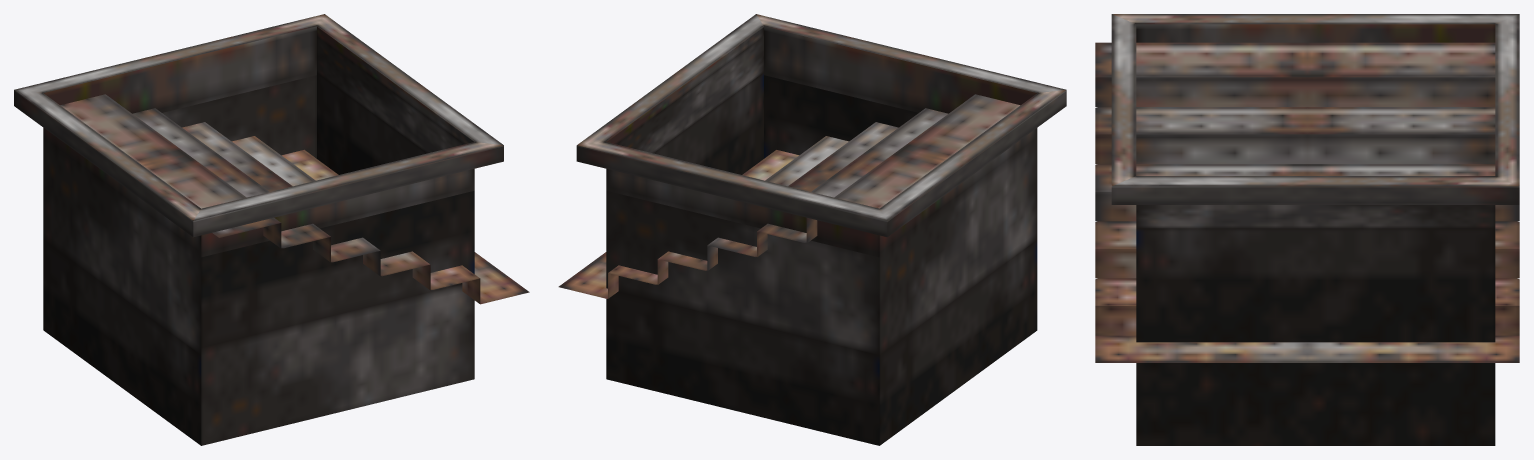
File: Poly_SF_Outside_B_Stairs_Down_02_Right.obj
3 renders of one model, left to right at view 1: azimuth 30°, elevation 25°; view 2: azimuth 150°, elevation 25°; view 3: azimuth 270°, elevation 25°, orthographic. The views are drawn at different scales.
Parts seen in each view (by area): view 1: Cube, Cube.001; view 2: Cube, Cube.001; view 3: Cube, Cube.001.
Part boxes in pixels (<box>): Cube: <box>14,14,503,445</box>; Cube.001: <box>60,94,529,304</box>; Cube: <box>576,14,1066,445</box>; Cube.001: <box>558,94,1020,298</box>; Cube: <box>1111,14,1519,445</box>; Cube.001: <box>1095,42,1519,362</box>.
Bounding box in the file's own units: 1.06 × 0.73 × 1.04.
1 material, 1 textured.
